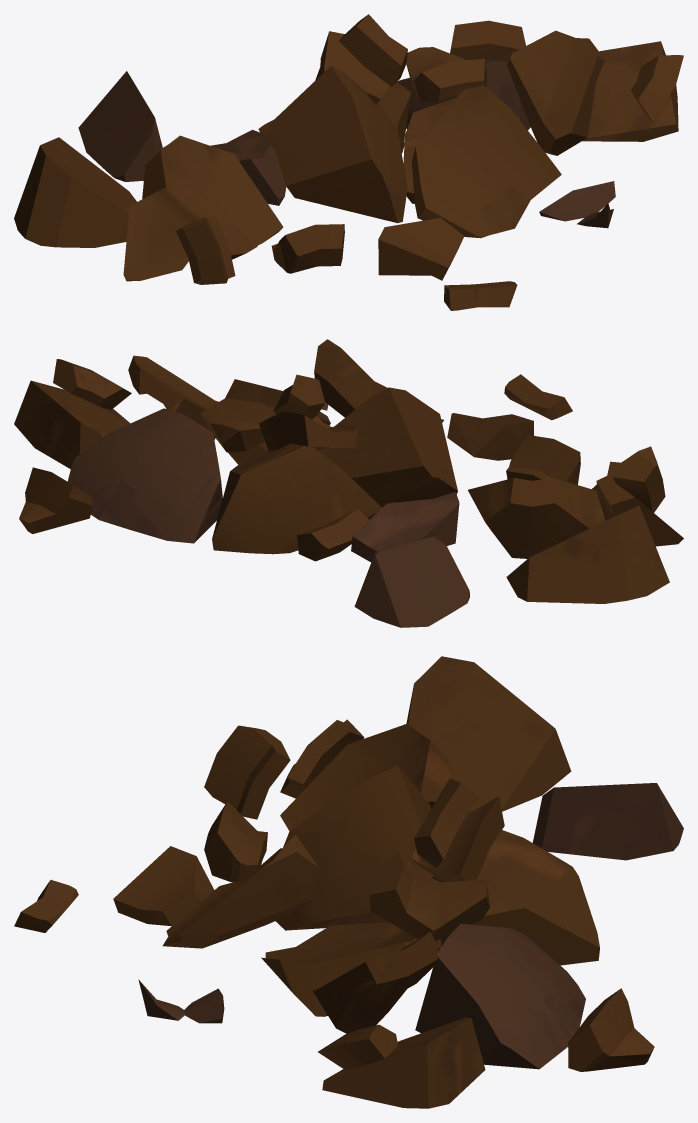
File: vase_rubble_medium.gltf
3 renders of one model, top to bottom at view 1: azimuth 30°, elevation 25°; view 2: azimuth 150°, elevation 25°; view 3: azimuth 270°, elevation 25°, orthographic. The views are drawn at different scales.
Visible parts, largest first — view 1: Vase_Rubble_Medium; view 2: Vase_Rubble_Medium; view 3: Vase_Rubble_Medium.
Boxes of the visible parts, x1,y1,x2,y2 form: Vase_Rubble_Medium: (14,14,683,310); Vase_Rubble_Medium: (14,339,683,627); Vase_Rubble_Medium: (14,656,683,1108).
Size of the model in its own units: 0.7969 by 0.1746 by 0.5984.
1 material, 1 textured.
